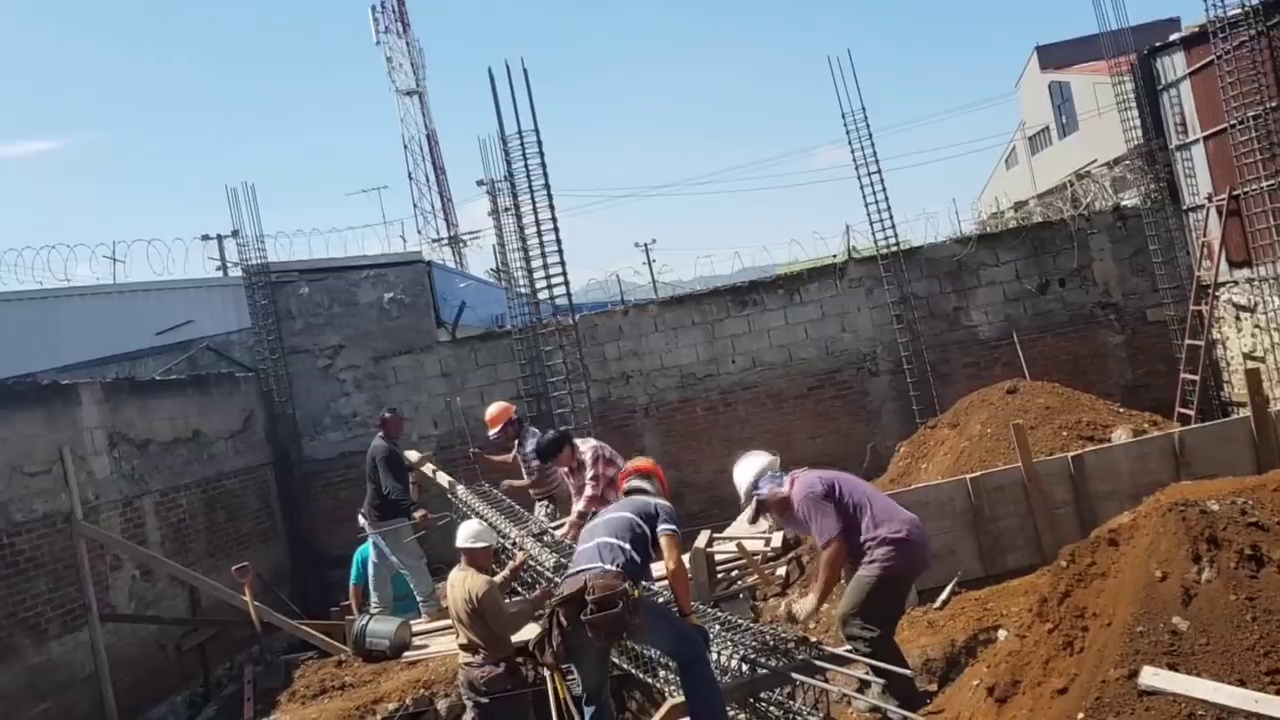helmet: (733, 454, 781, 505), (618, 456, 668, 493), (481, 401, 516, 438), (455, 524, 493, 554)
helmet-off: (530, 434, 579, 483), (378, 409, 404, 441)
helmet-on: (731, 451, 796, 524), (615, 458, 669, 510), (453, 524, 498, 577), (481, 399, 527, 449)
person: (726, 450, 932, 719), (546, 455, 725, 700), (444, 519, 552, 711), (358, 409, 429, 644), (517, 429, 622, 549), (480, 396, 573, 523), (343, 510, 403, 627)
